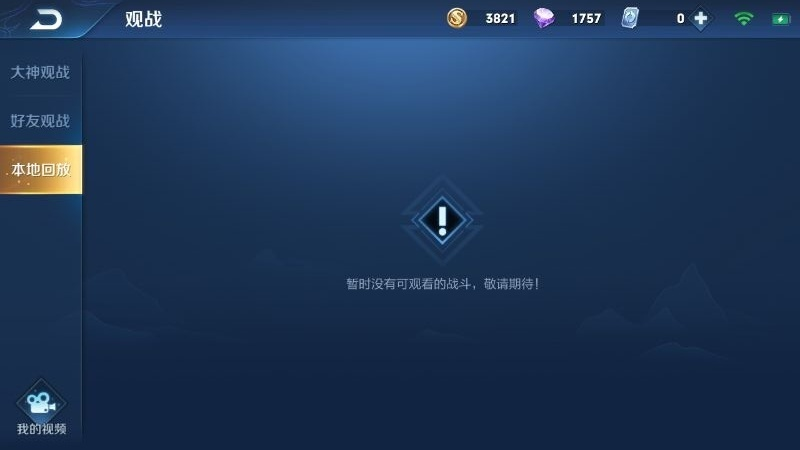return: (17, 1, 80, 34)
tag: (3, 102, 76, 140), (7, 53, 75, 85)
